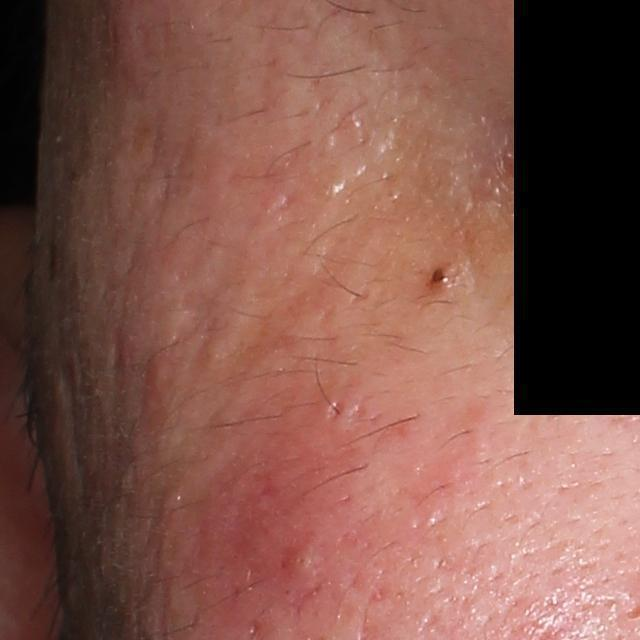nevus: (431, 265, 450, 284)
